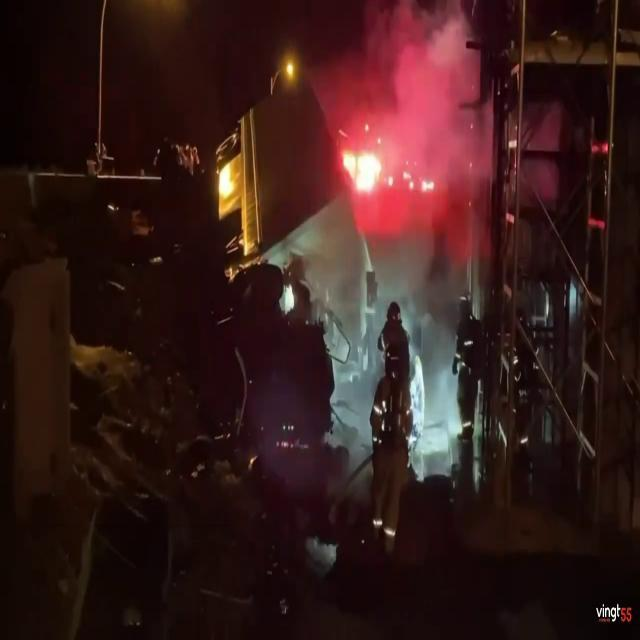Smoke: (314, 2, 491, 304)
